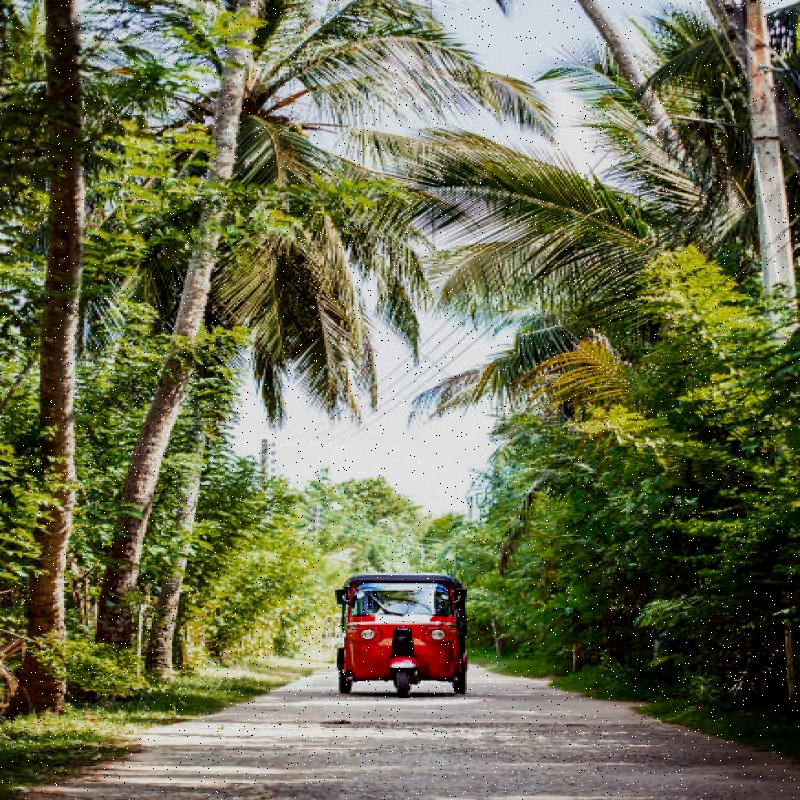auto: (306, 548, 506, 706)
